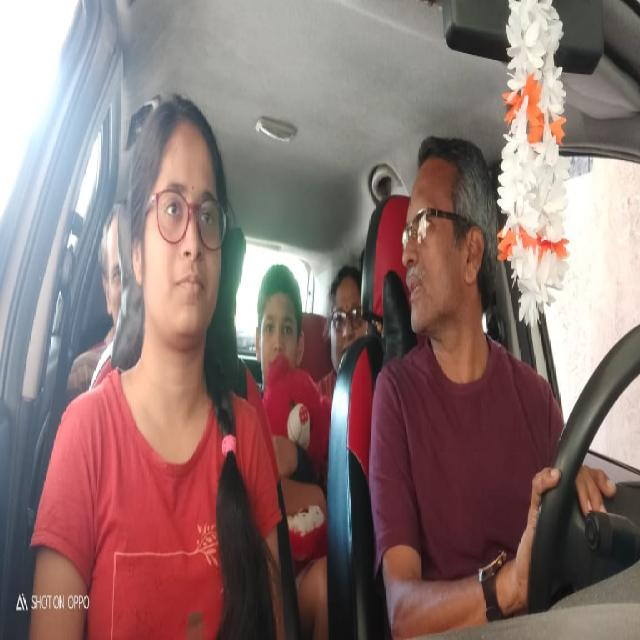LeftRight: (394, 130, 491, 343)
person: (123, 85, 225, 347), (252, 263, 304, 382), (320, 268, 369, 371), (95, 209, 132, 325)
